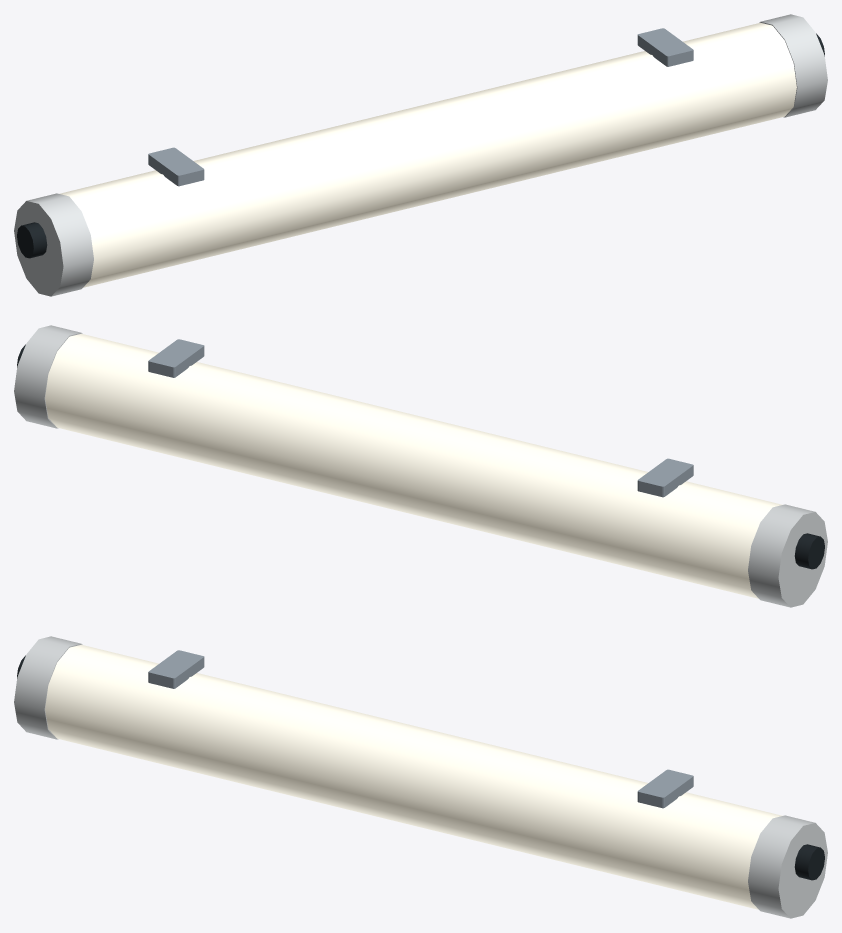
File: source.glb
The picture shows the model from 3 angles, top to bottom: view 1: azimuth 30°, elevation 25°; view 2: azimuth 150°, elevation 25°; view 3: azimuth 330°, elevation 25°; orthographic projection.
Visible parts, largest first — view 1: Emitters, 粉末涂层铝壳, 机加工金属, 密封及绝缘件; view 2: Emitters, 粉末涂层铝壳, 机加工金属, 密封及绝缘件; view 3: Emitters, 粉末涂层铝壳, 机加工金属, 密封及绝缘件.
Boxes of the visible parts, x1,y1,x2,y2 form: Emitters: [59, 22, 796, 287]; 粉末涂层铝壳: [14, 14, 827, 296]; 机加工金属: [148, 28, 693, 186]; 密封及绝缘件: [17, 33, 824, 258]; Emitters: [45, 333, 782, 598]; 粉末涂层铝壳: [14, 325, 827, 607]; 机加工金属: [148, 339, 693, 497]; 密封及绝缘件: [17, 344, 824, 569]; Emitters: [45, 644, 782, 909]; 粉末涂层铝壳: [14, 636, 827, 918]; 机加工金属: [148, 650, 693, 808]; 密封及绝缘件: [17, 655, 824, 880].
Size of the model in its own units: 0.621 by 0.0738 by 0.0673.
